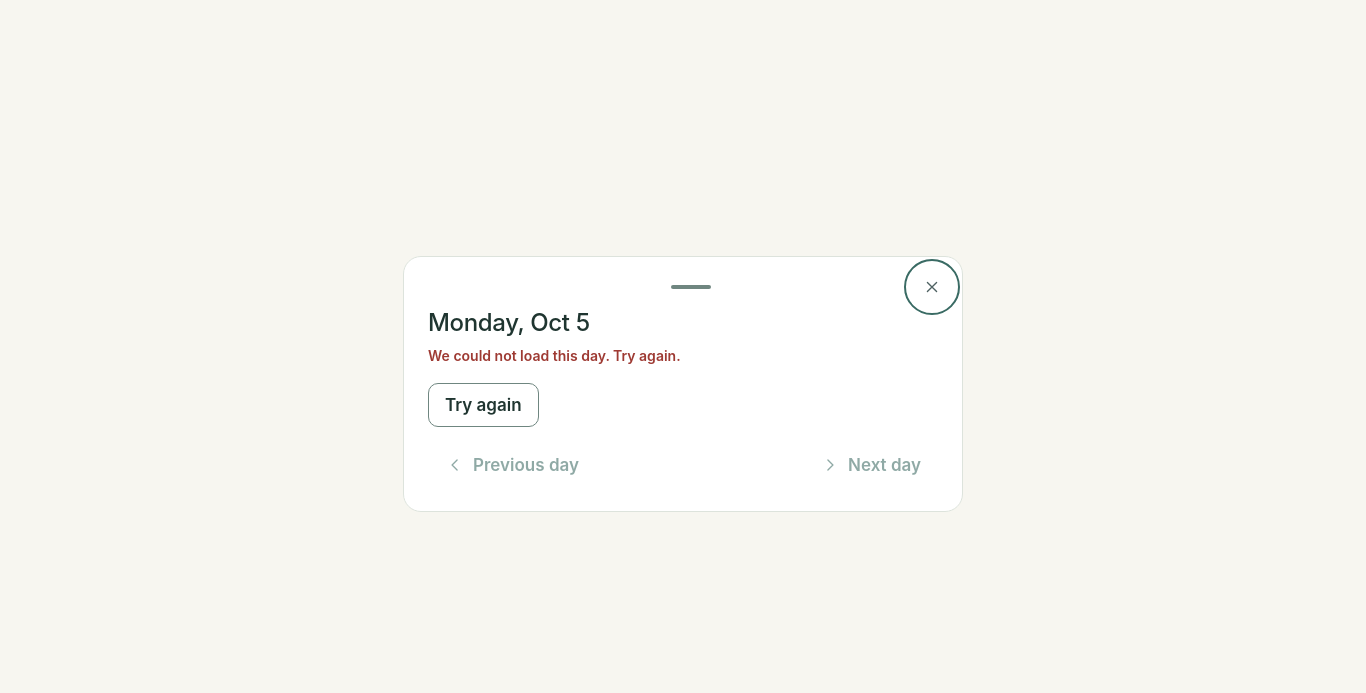
Test: DayLogSheet › says what to do when the day could not be loaded, and loads again
Check: the text "We could not load this day. Try again." is shown, box [428,347,681,364]
Click the button "Try again" at (483, 405), box [428,383,539,427]
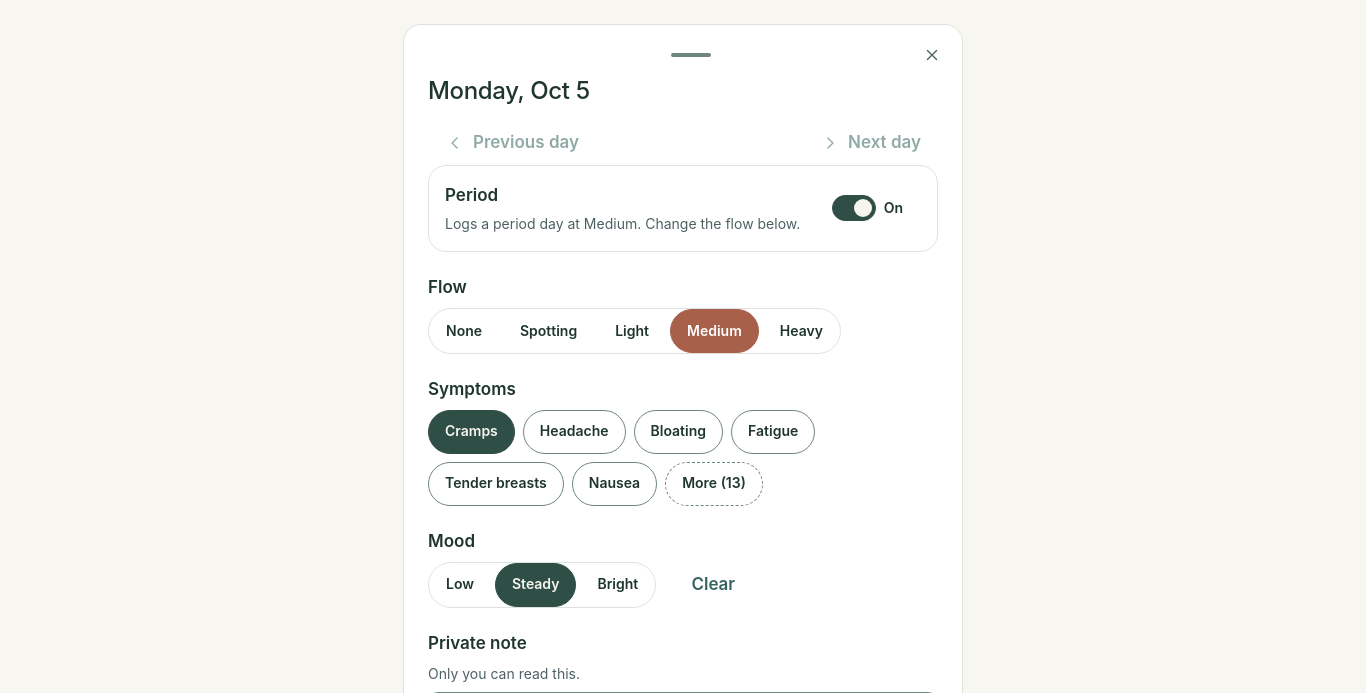
Check: the radio button labelled "Medium" is checked, box [670,309,759,353]
